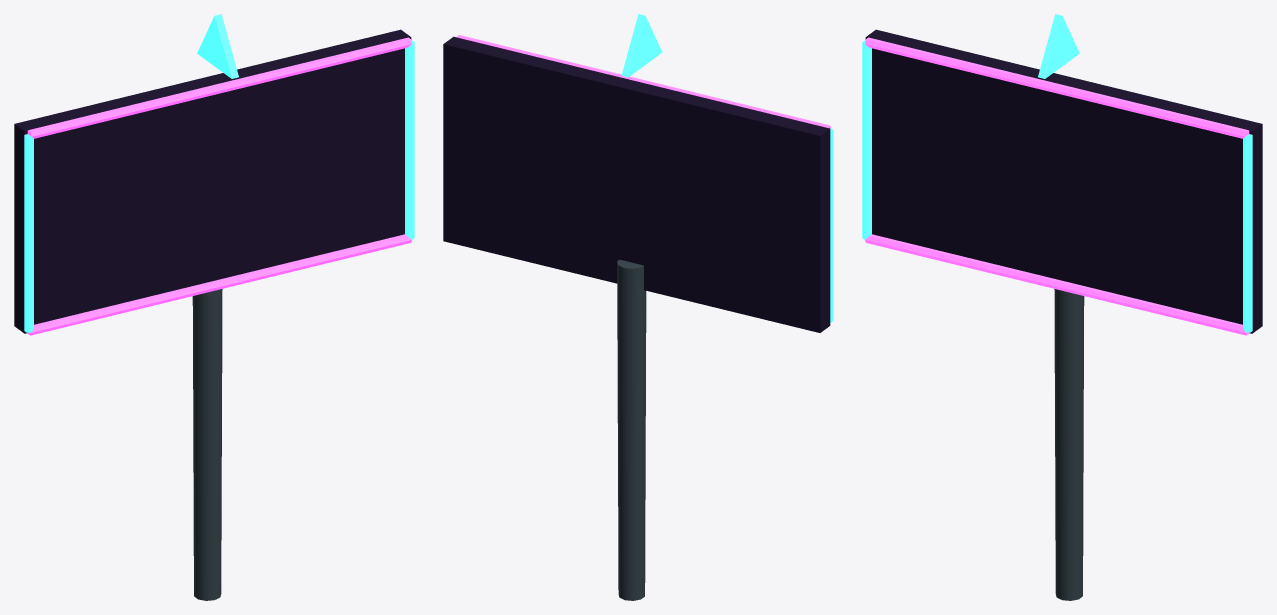
Rendered from journey_neon_sign.glb.
The picture shows the model from 3 angles, left to right: view 1: azimuth 30°, elevation 25°; view 2: azimuth 150°, elevation 25°; view 3: azimuth 330°, elevation 25°; orthographic projection. The views are drawn at different scales.
Parts seen in each view (by area): view 1: NeonSign_body; view 2: NeonSign_body; view 3: NeonSign_body.
Part boxes in pixels (bbox=[...]): NeonSign_body: bbox=[14, 14, 414, 600]; NeonSign_body: bbox=[443, 14, 833, 600]; NeonSign_body: bbox=[862, 14, 1262, 600].
Size of the model in its own units: 6.42 by 9.3 by 1.02.
